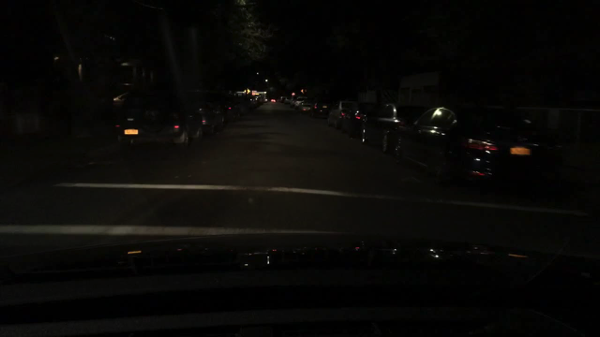car: (392, 103, 565, 191), (113, 85, 203, 151), (359, 103, 427, 154), (338, 101, 378, 139), (189, 99, 227, 135), (327, 101, 358, 127), (220, 99, 241, 120), (310, 101, 333, 119), (232, 99, 250, 118), (298, 101, 314, 114), (245, 95, 255, 113), (294, 96, 308, 108), (253, 96, 261, 108), (288, 96, 295, 108), (258, 94, 265, 105), (283, 97, 291, 104), (277, 96, 284, 102), (263, 96, 269, 103)
traffic sign: (299, 88, 308, 95), (243, 88, 250, 94)
